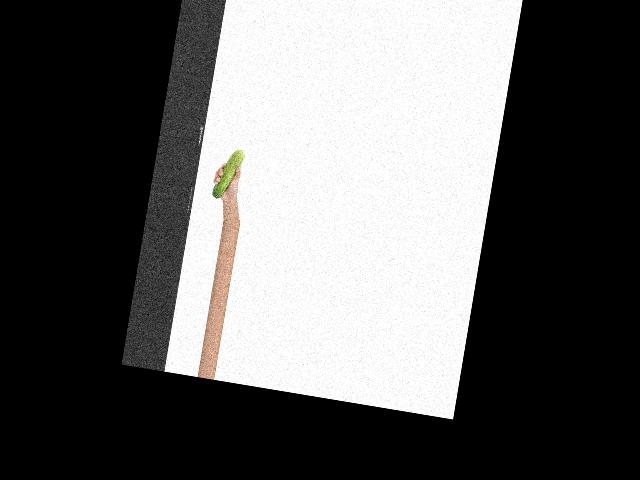cucumber: (211, 147, 245, 202)
